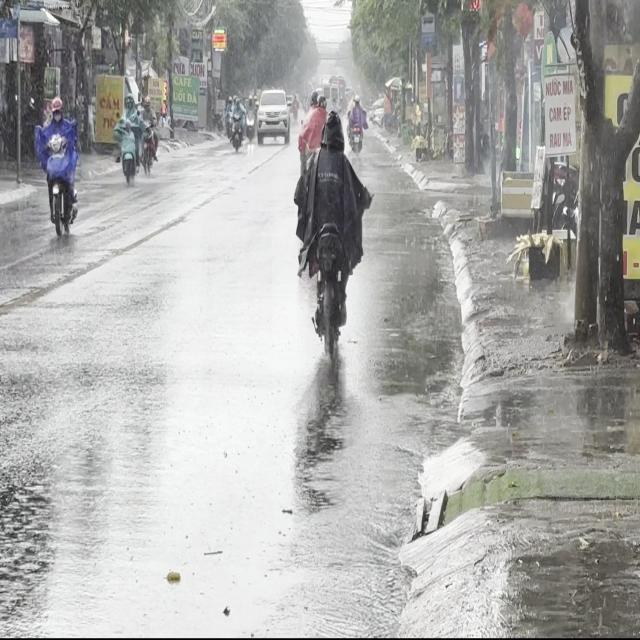helmet: (321, 110, 346, 153), (50, 96, 63, 119)
licenseplate: (288, 106, 377, 359), (38, 94, 80, 238)
